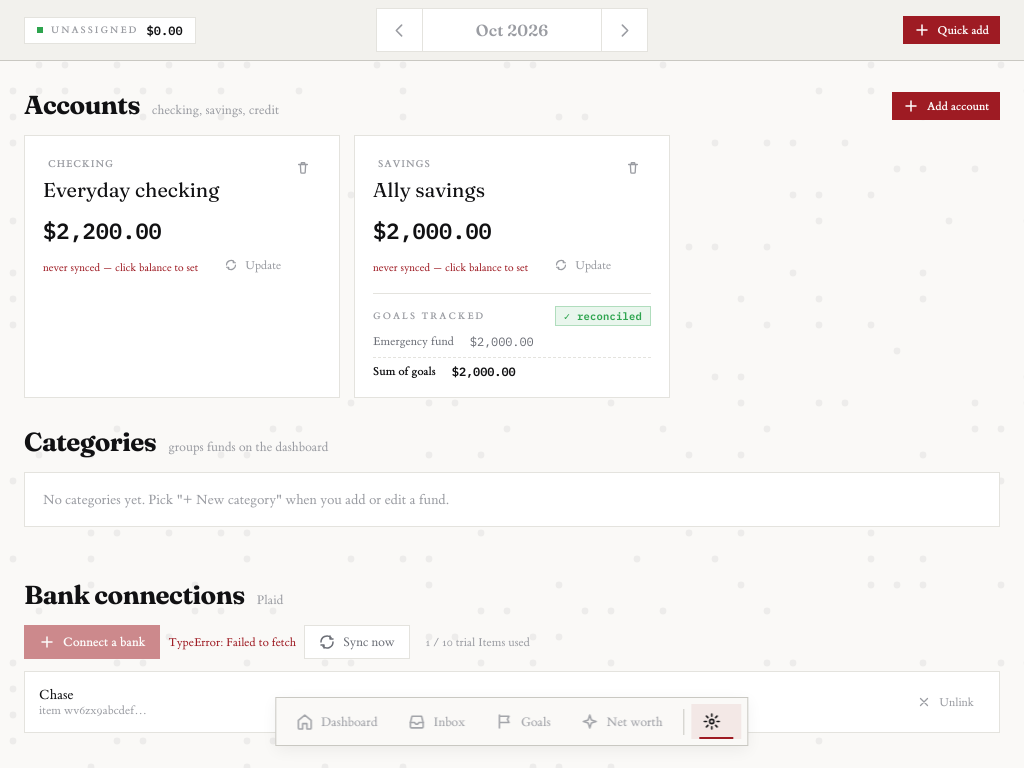
Test: Settings › shows a reconnect error without retrying sync when Link token creation fails
Click the button "Sync now": (357, 642) [304,625,410,659]
(page scrolled)
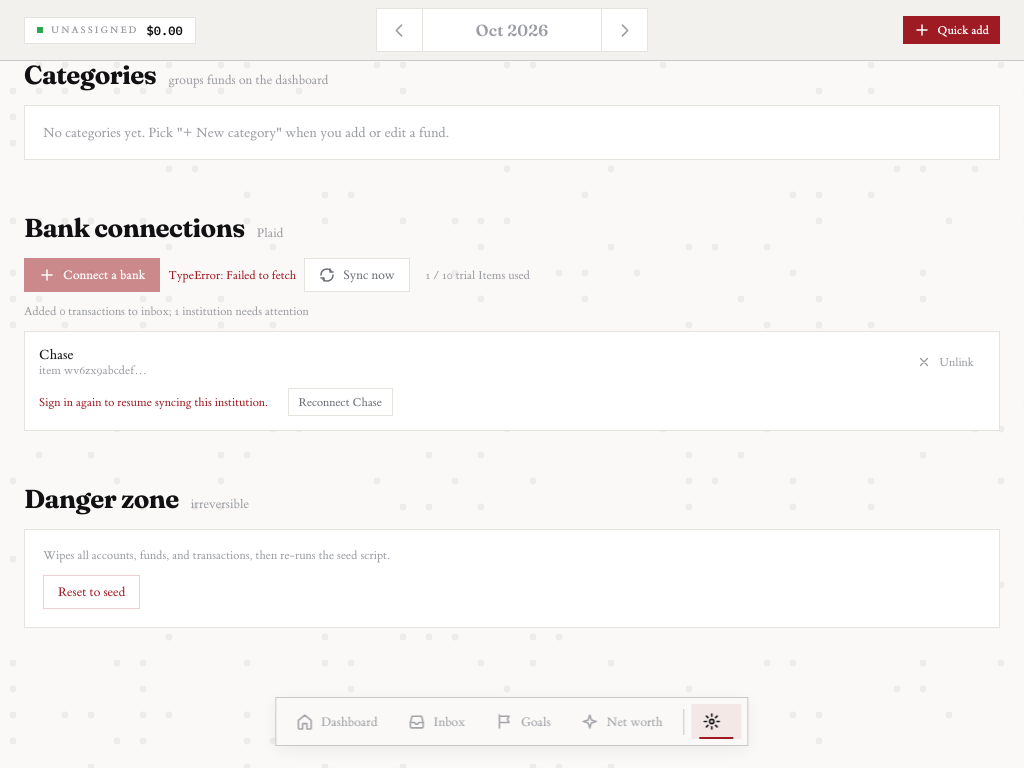
Click the button "Reconnect Chase": (340, 402) [288,388,393,416]
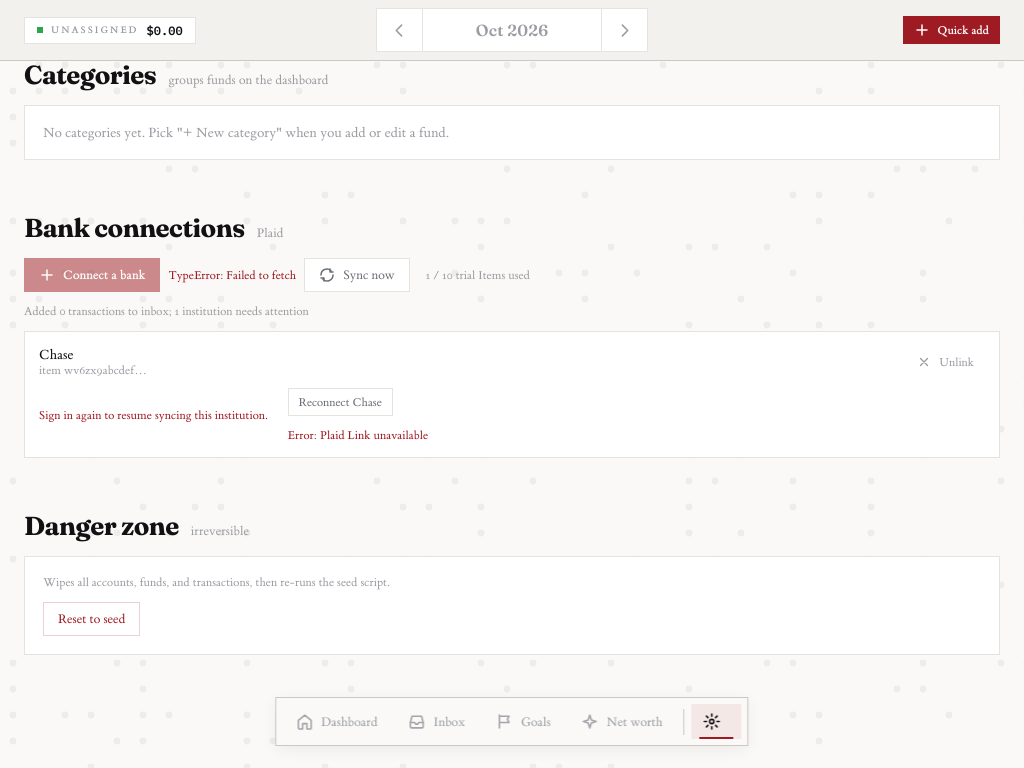
Check: the message shows "Plaid Link unavailable", box [288,428,428,443]
